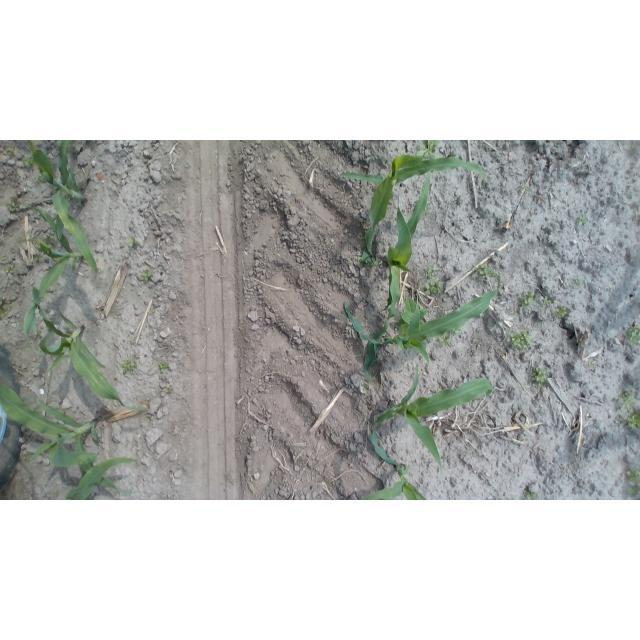Maize: (27, 280, 150, 416), (342, 288, 501, 389), (339, 155, 490, 261), (1, 380, 136, 498), (364, 361, 503, 472), (25, 202, 103, 351), (24, 140, 100, 277), (380, 175, 434, 334), (55, 459, 139, 500), (356, 464, 445, 500)
Weeds: (397, 295, 427, 332), (618, 390, 640, 430), (473, 263, 504, 285), (438, 327, 462, 349), (509, 328, 534, 349), (624, 468, 640, 500), (416, 141, 441, 160), (424, 278, 445, 298), (518, 291, 537, 310), (120, 357, 140, 375), (357, 254, 379, 269), (625, 325, 640, 347), (532, 366, 546, 383), (423, 264, 438, 279), (522, 489, 542, 500), (7, 202, 24, 213), (141, 268, 156, 280), (129, 236, 141, 250), (554, 307, 567, 319), (43, 233, 55, 246), (21, 158, 35, 169), (573, 278, 587, 289), (3, 264, 17, 275), (575, 214, 585, 228), (21, 453, 35, 463), (542, 297, 553, 308), (164, 384, 175, 395), (159, 362, 170, 373), (34, 176, 47, 184), (0, 297, 6, 312)
